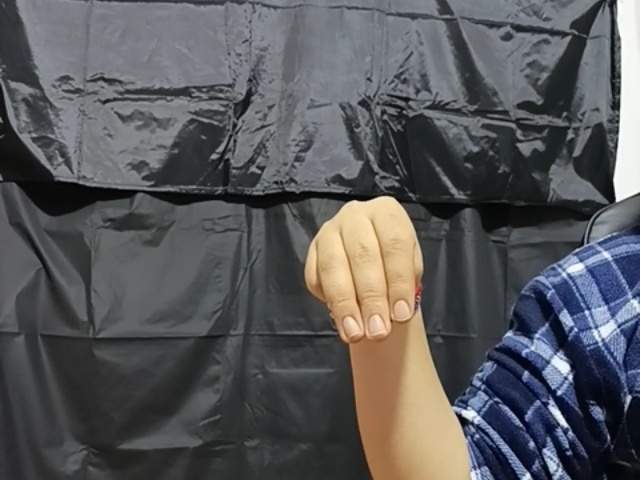M: (308, 194, 432, 349)
